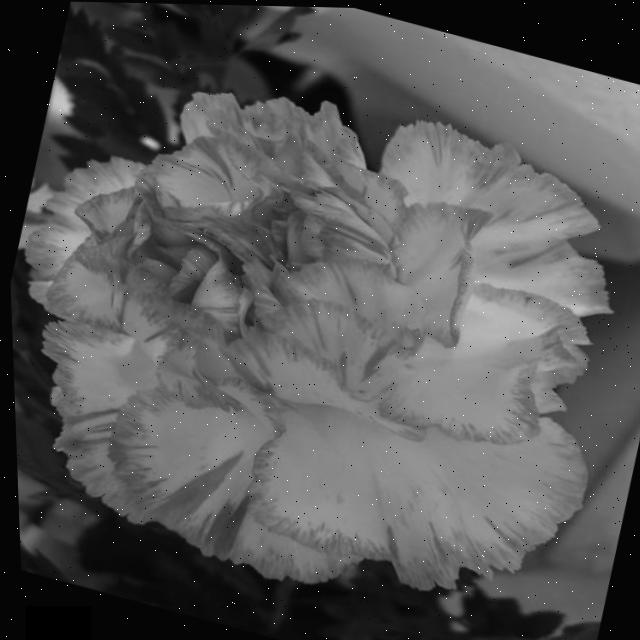carnation: (0, 7, 640, 640)
